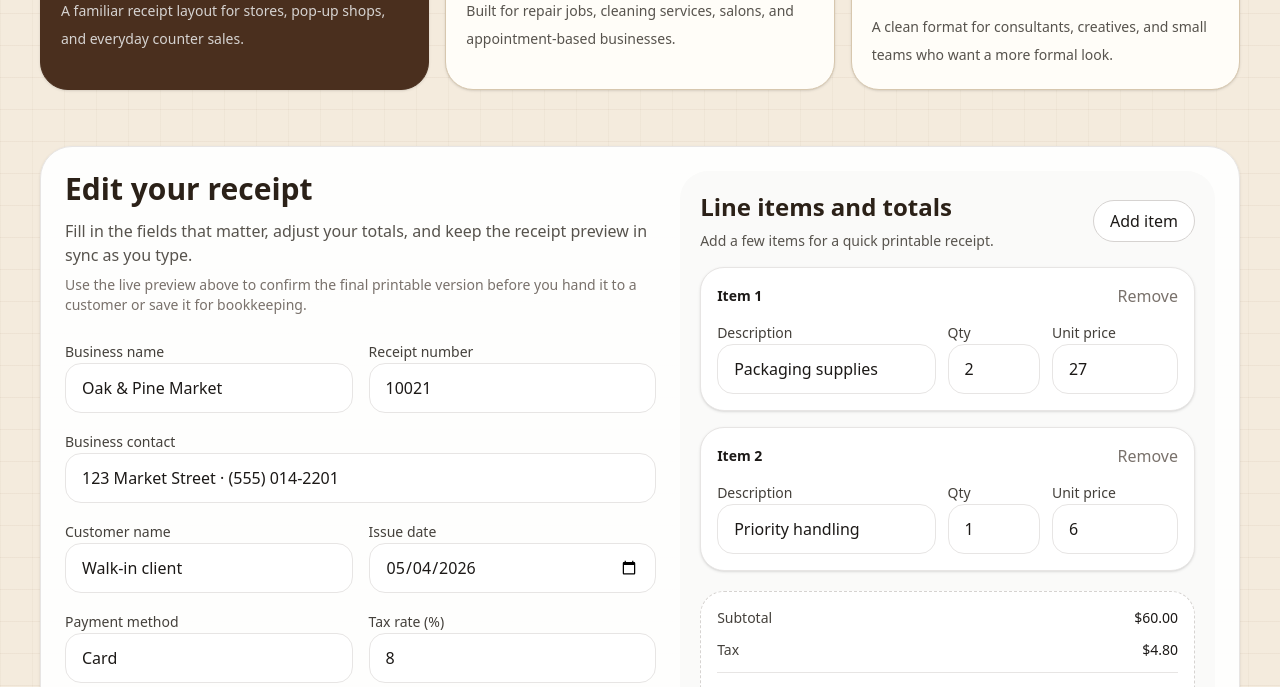
Home page receipt workflow › updates the live preview when the business name changes
(page scrolled)
Type "Northwind Studio" into the field labelled "Business name" at (209,388), box 65,363 -> 353,413
(page scrolled)
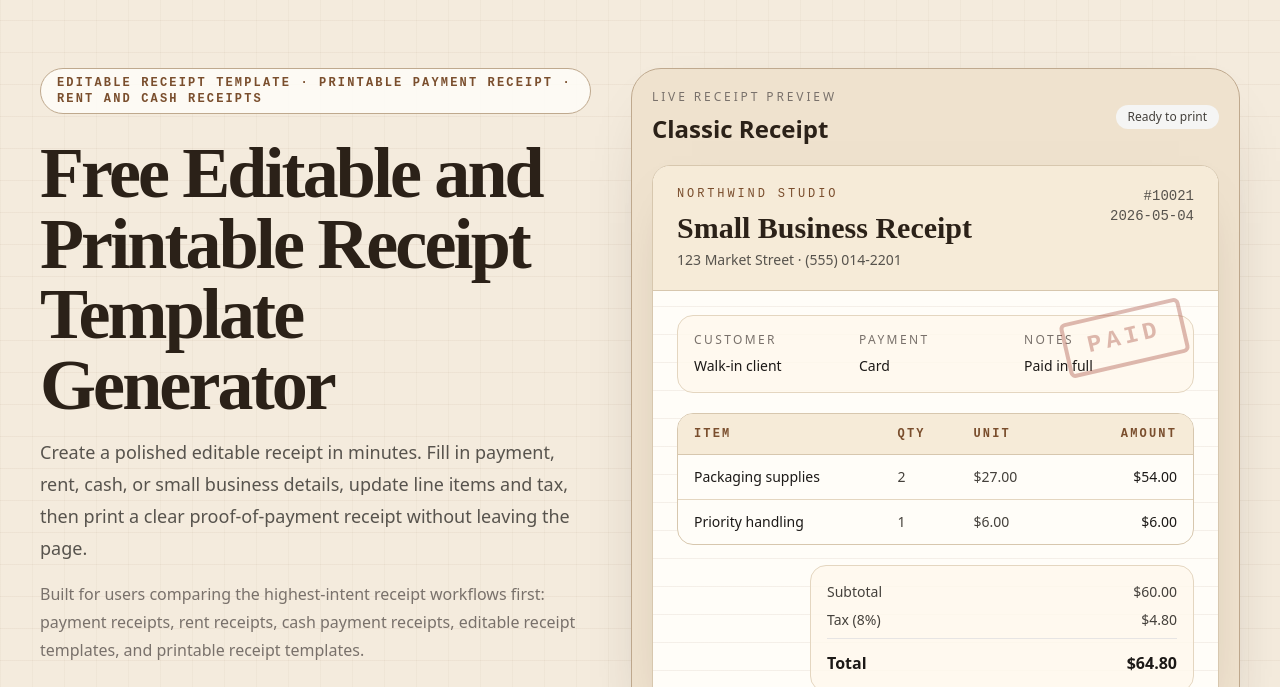
Check: the text "Northwind Studio" is shown, box 677,187 -> 838,201
